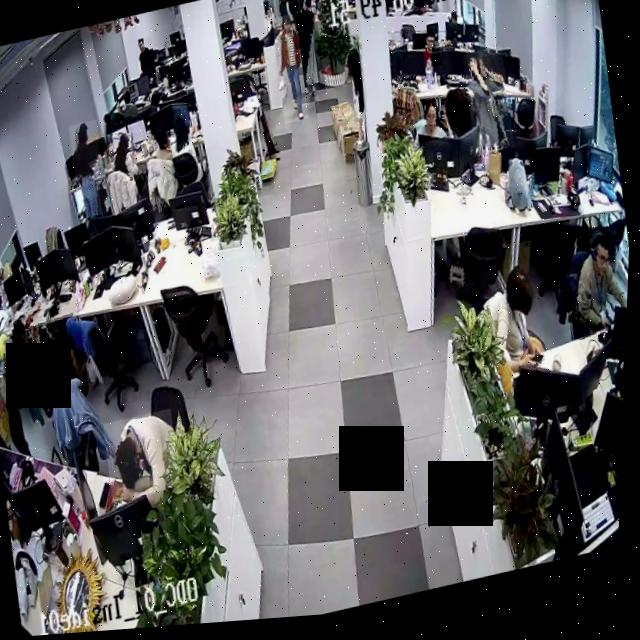person: (478, 270, 555, 391), (7, 301, 94, 407), (557, 234, 632, 351), (104, 411, 187, 506), (460, 53, 519, 165), (269, 17, 313, 130), (284, 0, 330, 104), (67, 120, 113, 222), (100, 131, 142, 188), (167, 114, 199, 172), (413, 103, 451, 150), (146, 128, 178, 181), (135, 39, 159, 88), (422, 35, 443, 76)
